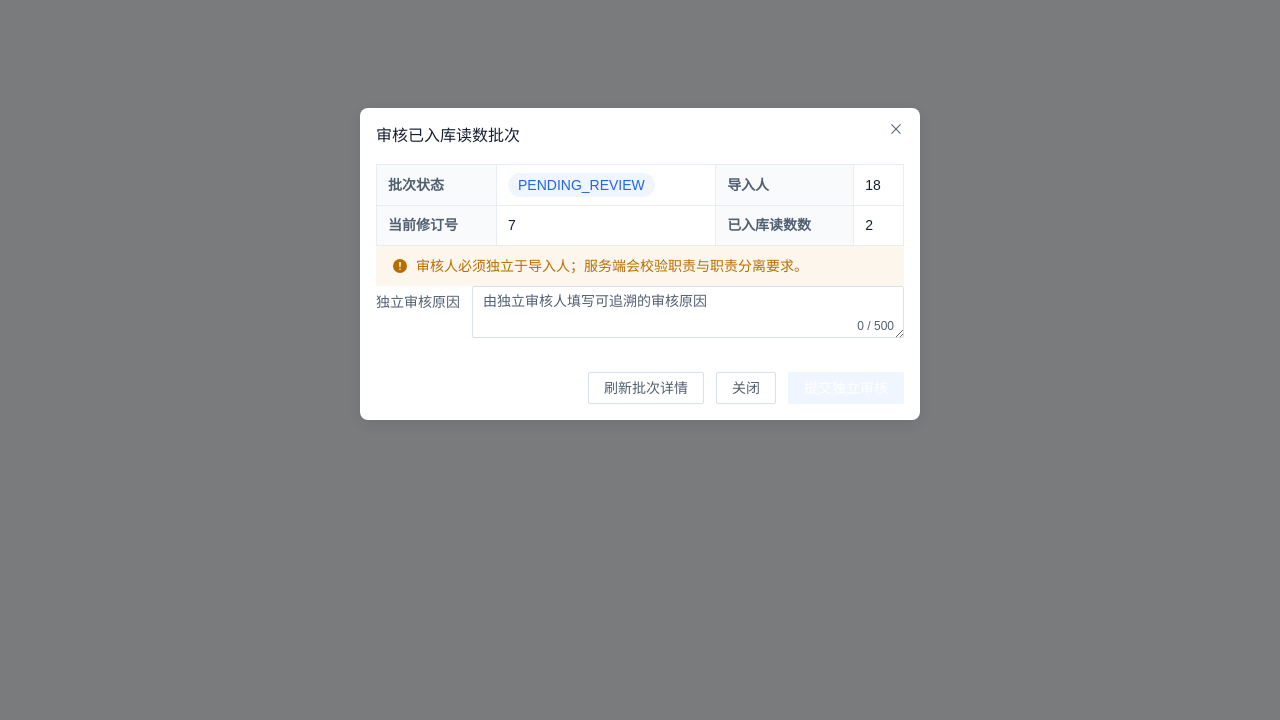
Test case: 已入库读数批次独立审核面板 › 先读取服务端批次详情，再以实际修订号提交独立审核原因
In the text box with test id "reading-batch-review-reason": (688,312) [472,286,904,338], type "已由独立审核人核对来源与测点"
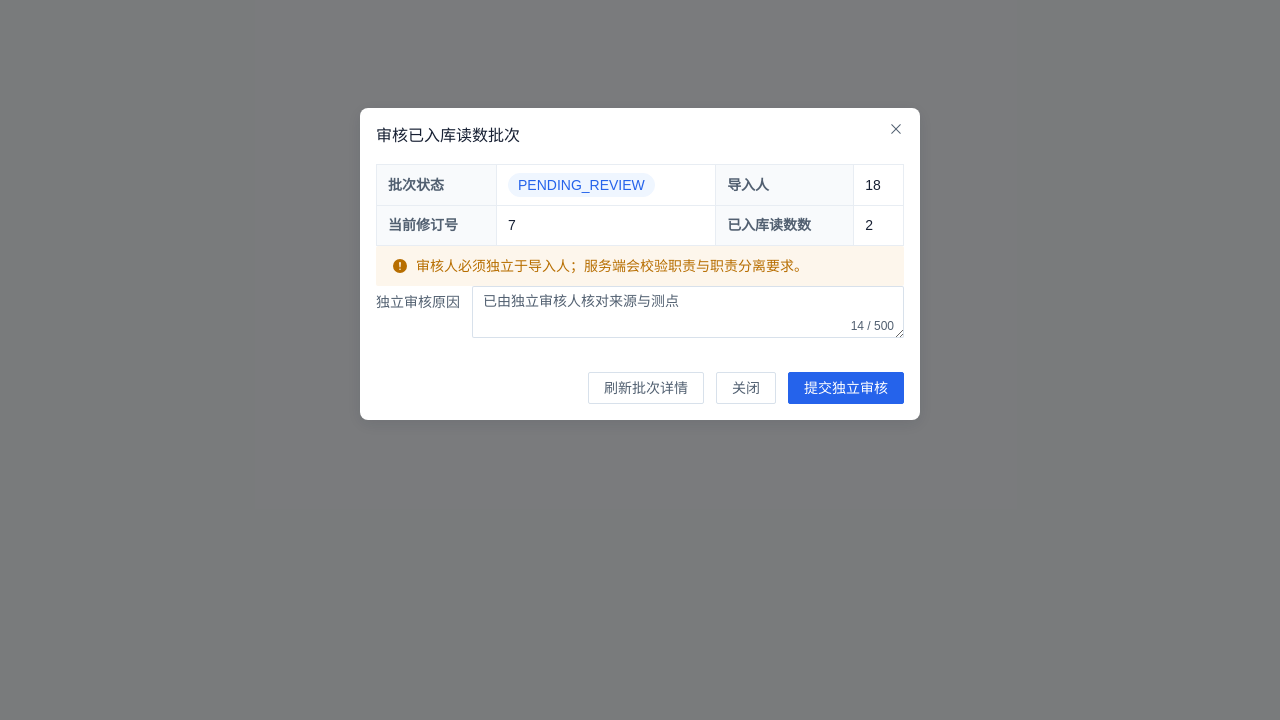
Click the button with test id "reading-batch-review-submit": (846,388) [788,372,904,404]
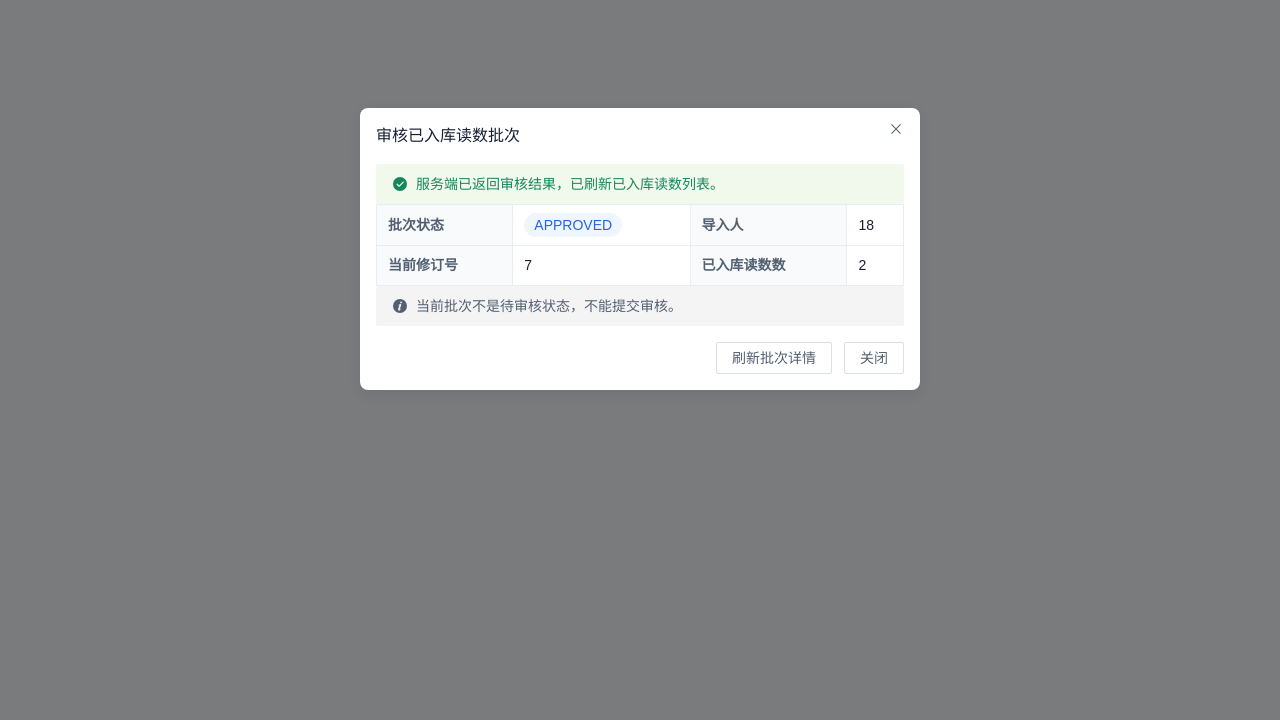
Expected: the text "APPROVED" is shown, [534,218,612,232]
